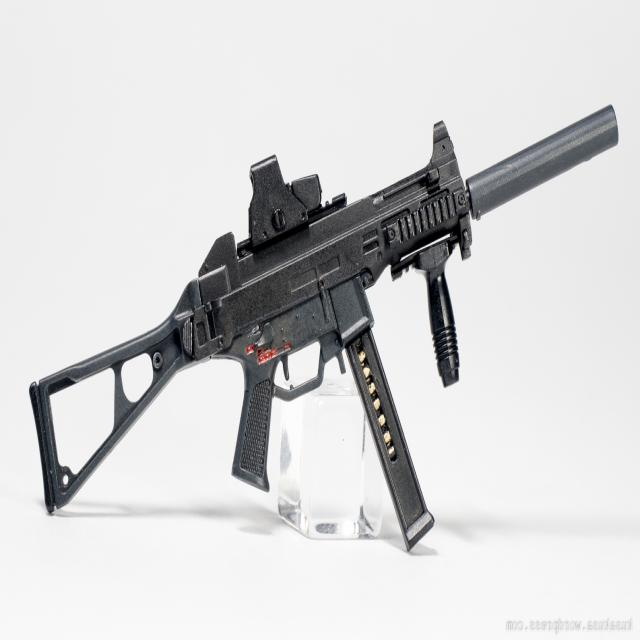Gun: (24, 50, 620, 571)
